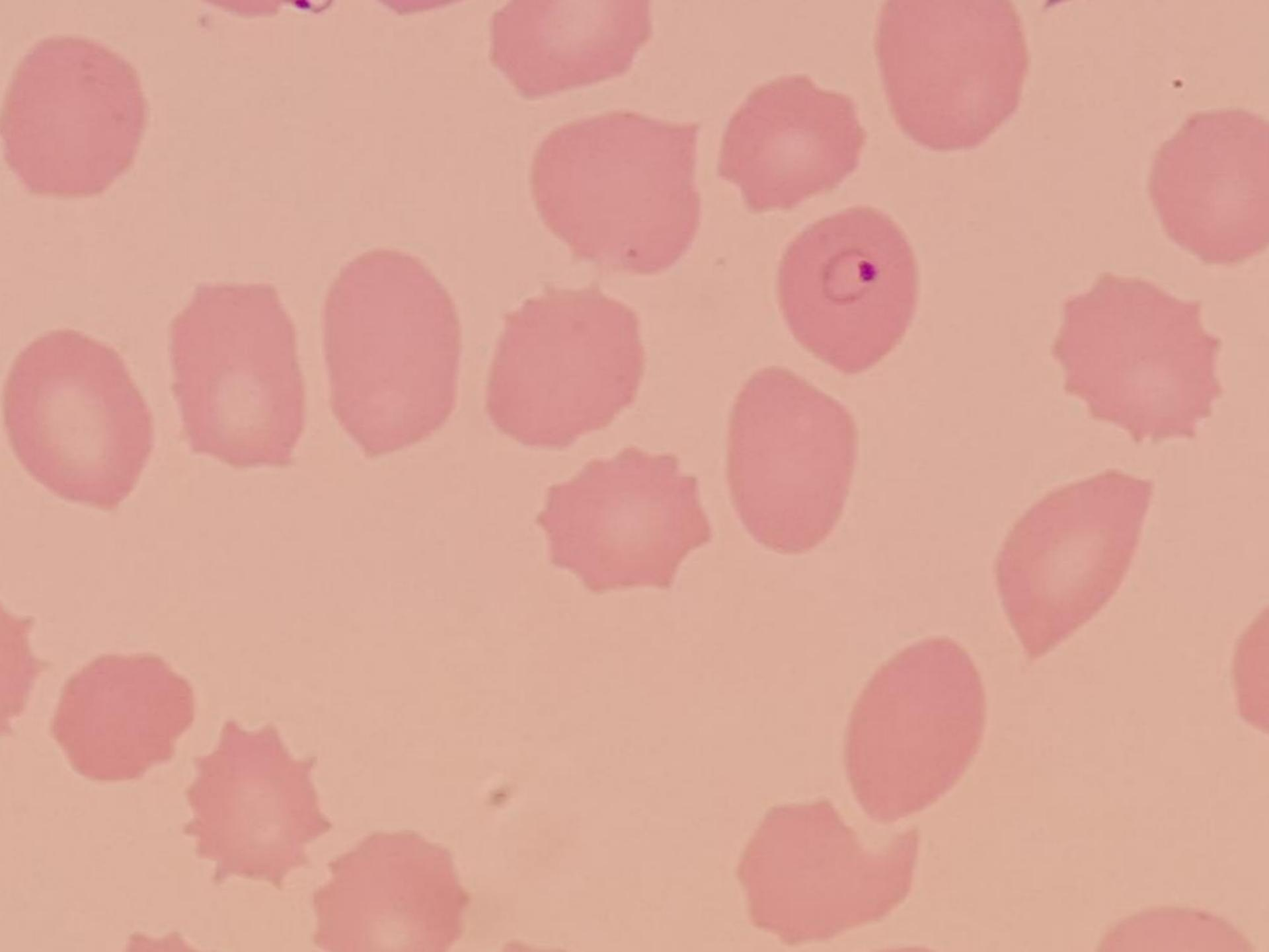Infected: (778, 197, 922, 377)
Uninfected: (322, 245, 466, 458), (996, 463, 1147, 656), (841, 630, 987, 821), (532, 116, 708, 274), (1053, 276, 1217, 442), (7, 324, 149, 507), (170, 283, 309, 467), (542, 446, 713, 595), (732, 365, 864, 555), (182, 720, 331, 887), (492, 291, 647, 451), (0, 40, 145, 197), (881, 0, 1026, 154), (719, 73, 866, 211), (1148, 106, 1269, 266), (55, 651, 195, 784), (322, 829, 471, 952), (489, 0, 650, 96)
